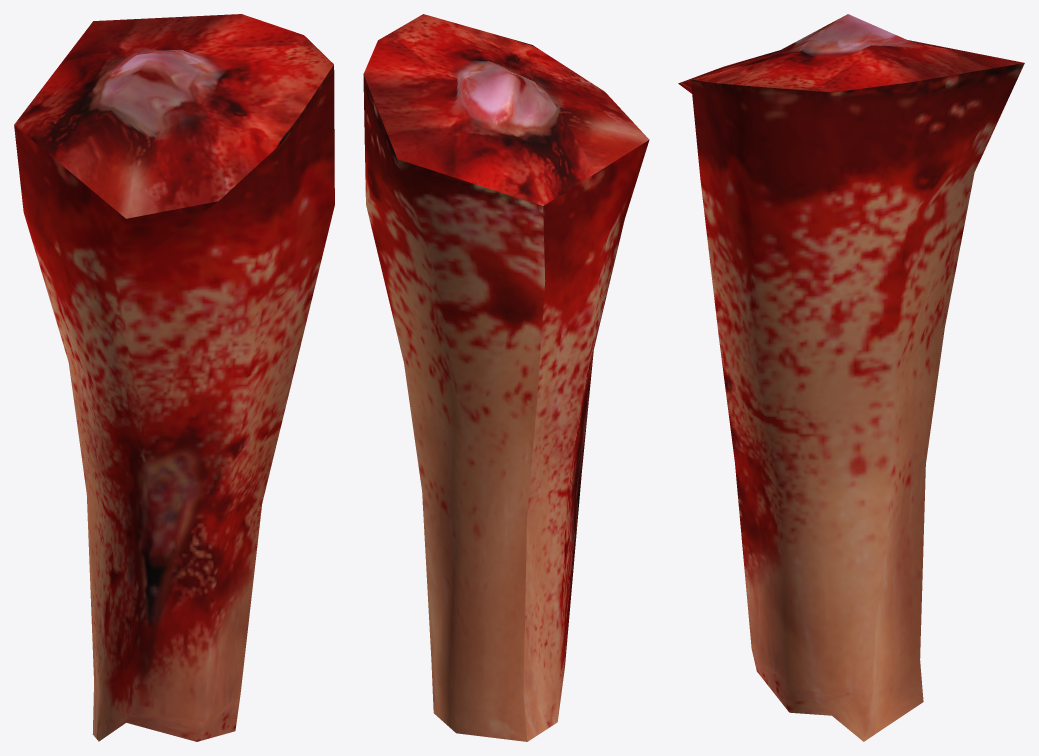
Rendered from female_lt_upleg.fbx.
3 renders of one model, left to right at view 1: azimuth 30°, elevation 25°; view 2: azimuth 150°, elevation 25°; view 3: azimuth 270°, elevation 25°, orthographic. The views are drawn at different scales.
Parts seen in each view (by area): view 1: fm_lt_upleg_gib; view 2: fm_lt_upleg_gib; view 3: fm_lt_upleg_gib.
Boxes of the visible parts, x1=… form: fm_lt_upleg_gib: x1=14, y1=14, x2=334, y2=741; fm_lt_upleg_gib: x1=363, y1=14, x2=649, y2=741; fm_lt_upleg_gib: x1=678, y1=14, x2=1024, y2=741.
Size of the model in its own units: 0.185 by 0.5089 by 0.2315.
